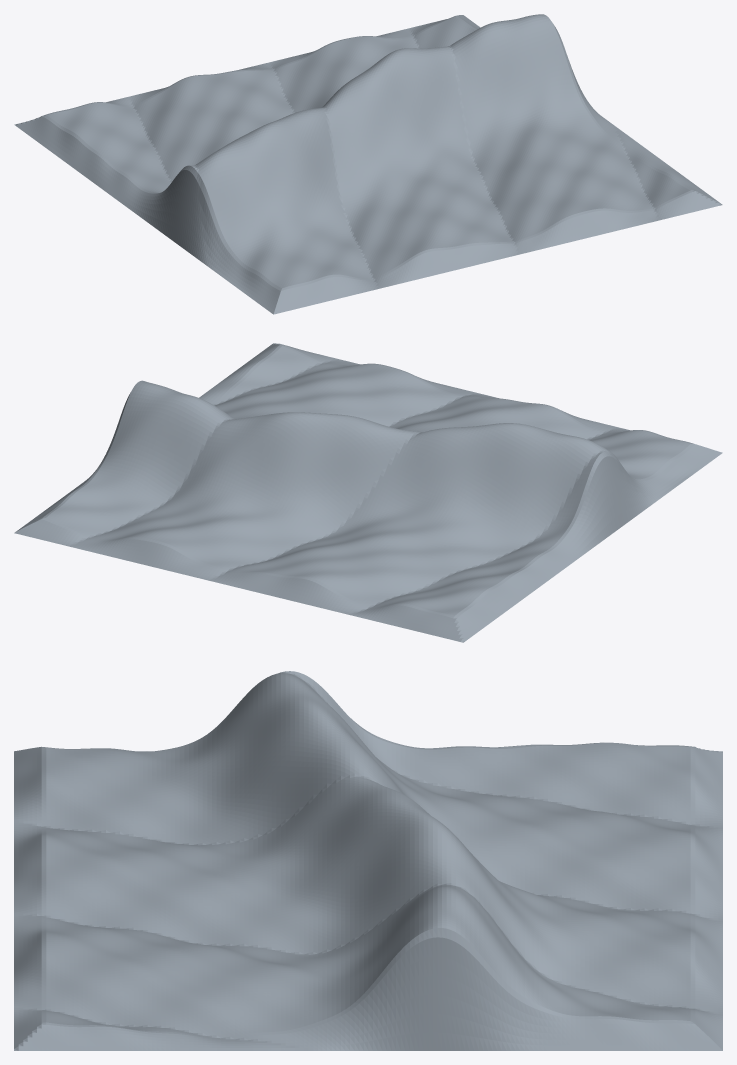
Rendered from pine_snowline_ridge.obj.
3 renders of one model, top to bottom at view 1: azimuth 30°, elevation 25°; view 2: azimuth 150°, elevation 25°; view 3: azimuth 270°, elevation 25°, orthographic. The views are drawn at different scales.
Visible parts, largest first — view 1: pine_snowline_ridge; view 2: pine_snowline_ridge; view 3: pine_snowline_ridge.
Part boxes in pixels (x1,y1,x2,y2): pine_snowline_ridge: [14, 14, 722, 314]; pine_snowline_ridge: [14, 343, 722, 642]; pine_snowline_ridge: [14, 671, 722, 1050].
Bounding box in the file's own units: 160 × 29.26 × 160.
